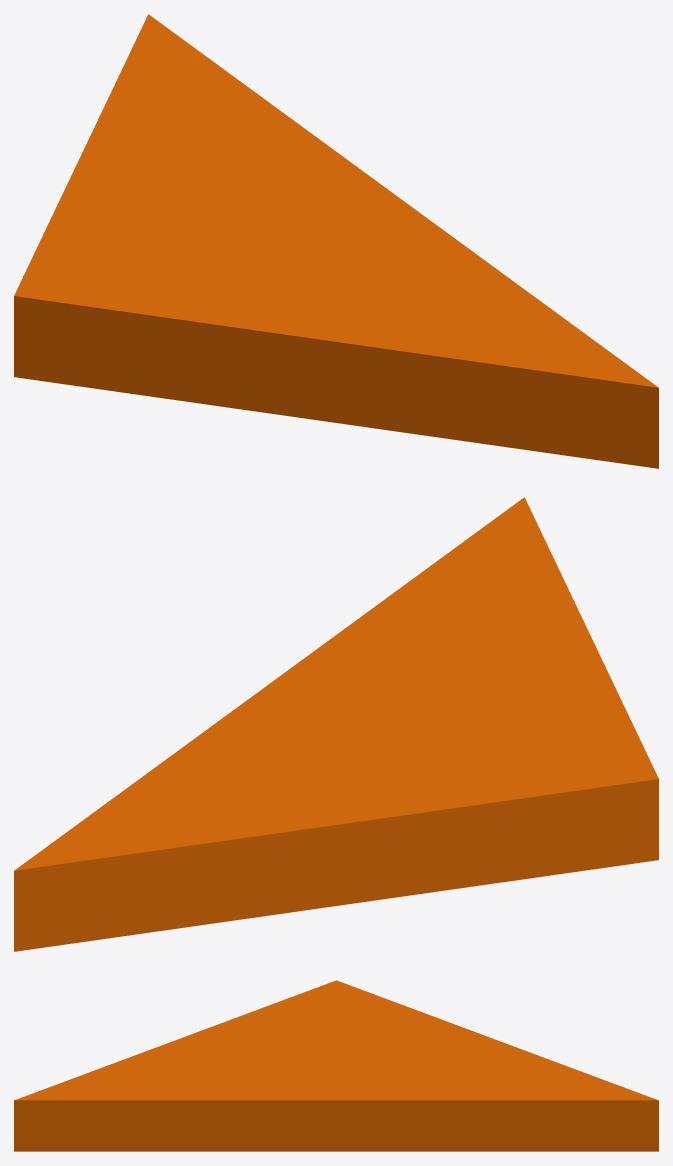
Rendered from direction_indicator.fbx.
The picture shows the model from 3 angles, top to bottom: view 1: azimuth 30°, elevation 25°; view 2: azimuth 150°, elevation 25°; view 3: azimuth 270°, elevation 25°; orthographic projection. The views are drawn at different scales.
Parts seen in each view (by area): view 1: Cube.003; view 2: Cube.003; view 3: Cube.003.
Boxes of the visible parts, x1=… form: Cube.003: x1=14, y1=14, x2=658, y2=468; Cube.003: x1=14, y1=497, x2=658, y2=951; Cube.003: x1=14, y1=980, x2=658, y2=1151.
Size of the model in its own units: 88.13 by 17.52 by 200.
